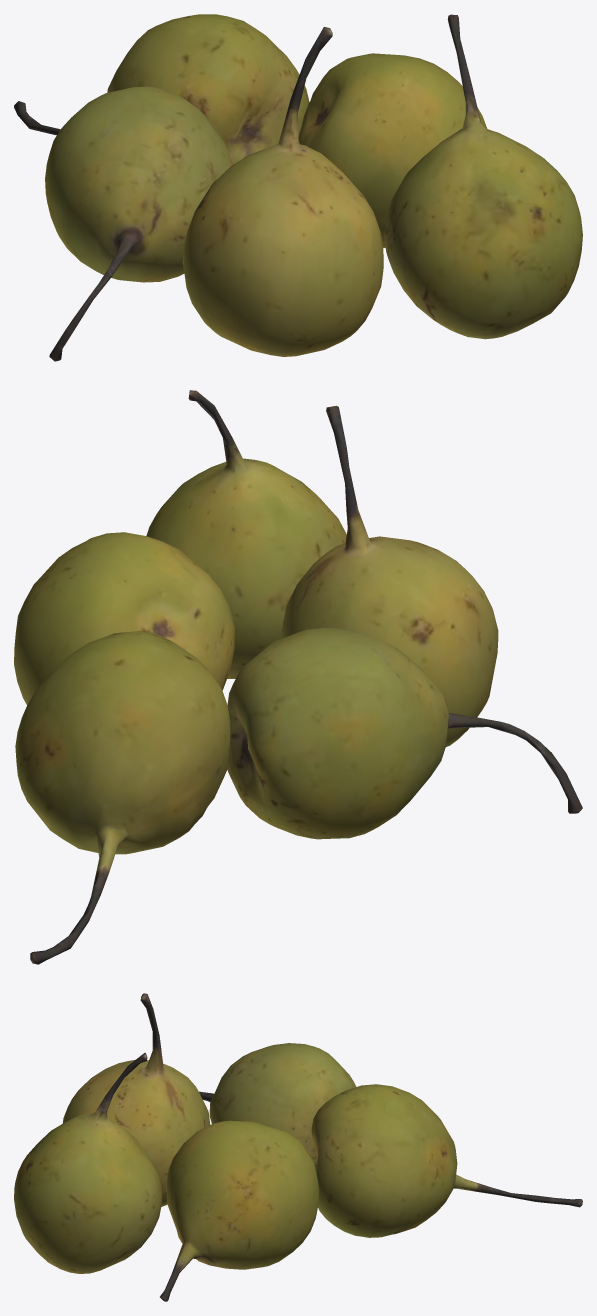
The model's file is food_pears_asian_01.glb.
3 views of the same model, one above another, from view 1: azimuth 30°, elevation 25°; view 2: azimuth 150°, elevation 25°; view 3: azimuth 270°, elevation 25° (orthographic). The views are drawn at different scales.
Parts seen in each view (by area): view 1: food_pears_asian_01_b; view 2: food_pears_asian_01_b; view 3: food_pears_asian_01_b.
Boxes of the visible parts, left/top/right/bottom form: food_pears_asian_01_b: left=14, top=14, right=582, bottom=361; food_pears_asian_01_b: left=14, top=390, right=582, bottom=964; food_pears_asian_01_b: left=14, top=993, right=582, bottom=1301.
Bounding box in the file's own units: 0.1261 × 0.0711 × 0.1669.
Materials: 1 (1 with a texture image).
